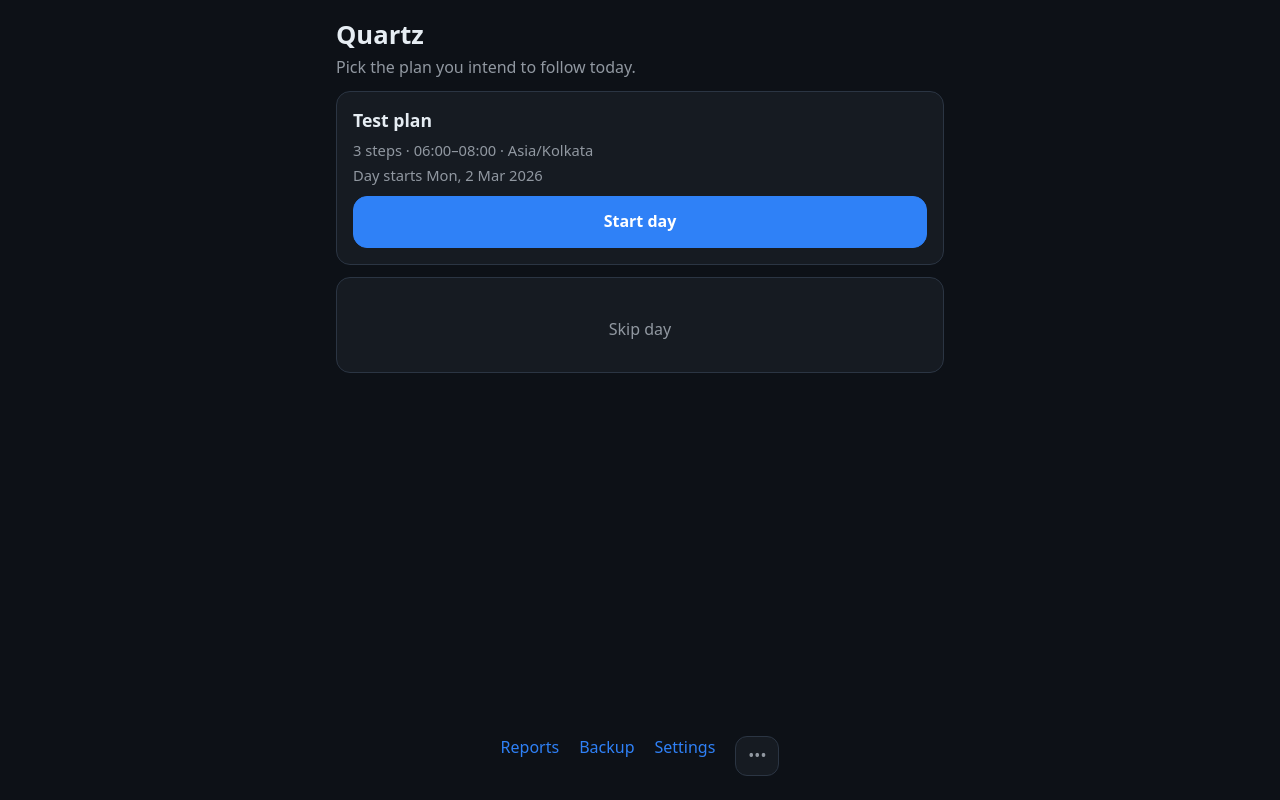
Test case: active run screen › fills a between-task gap from its subtle add control
Click the button "Start day" at (640, 222), box [353,196,927,248]
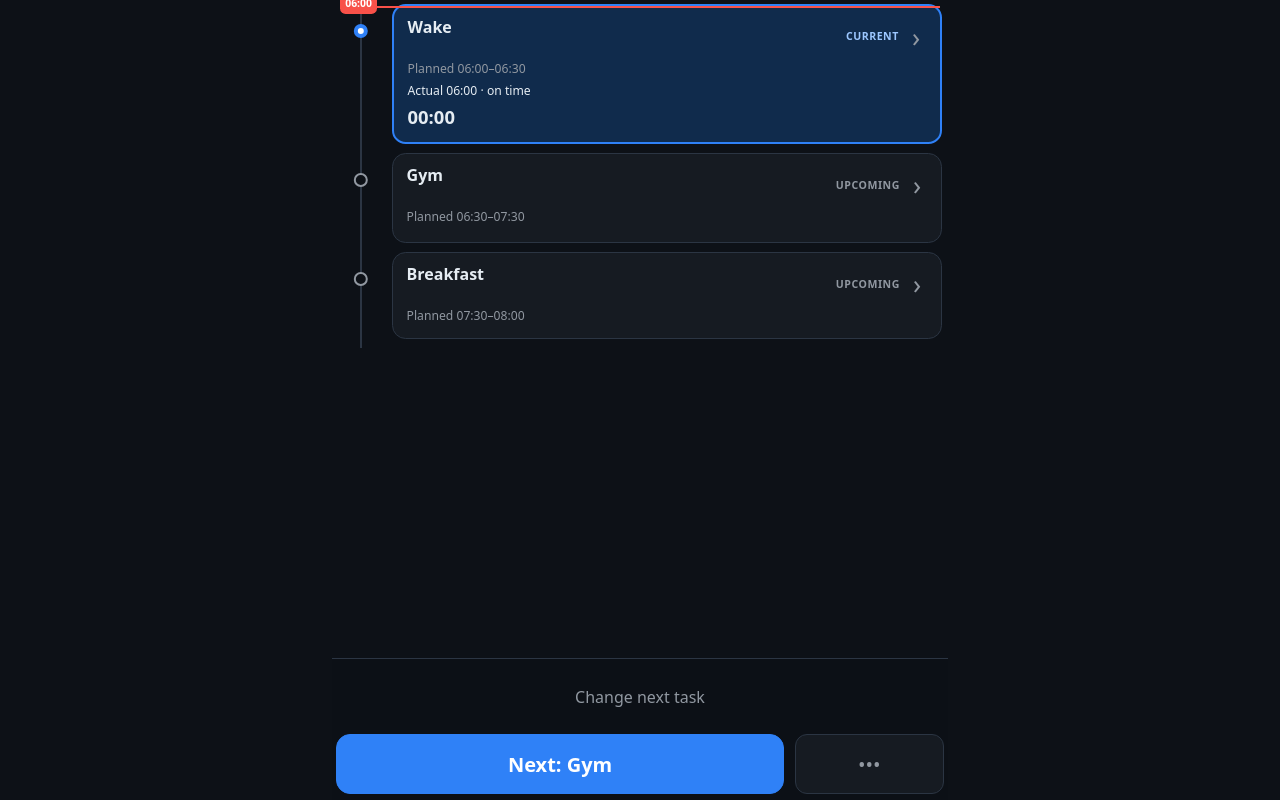
expect the heading "Wake" is shown: met, box [408,16,452,38]
Click the button named "More actions" at (869, 764), box [795,734,944,794]
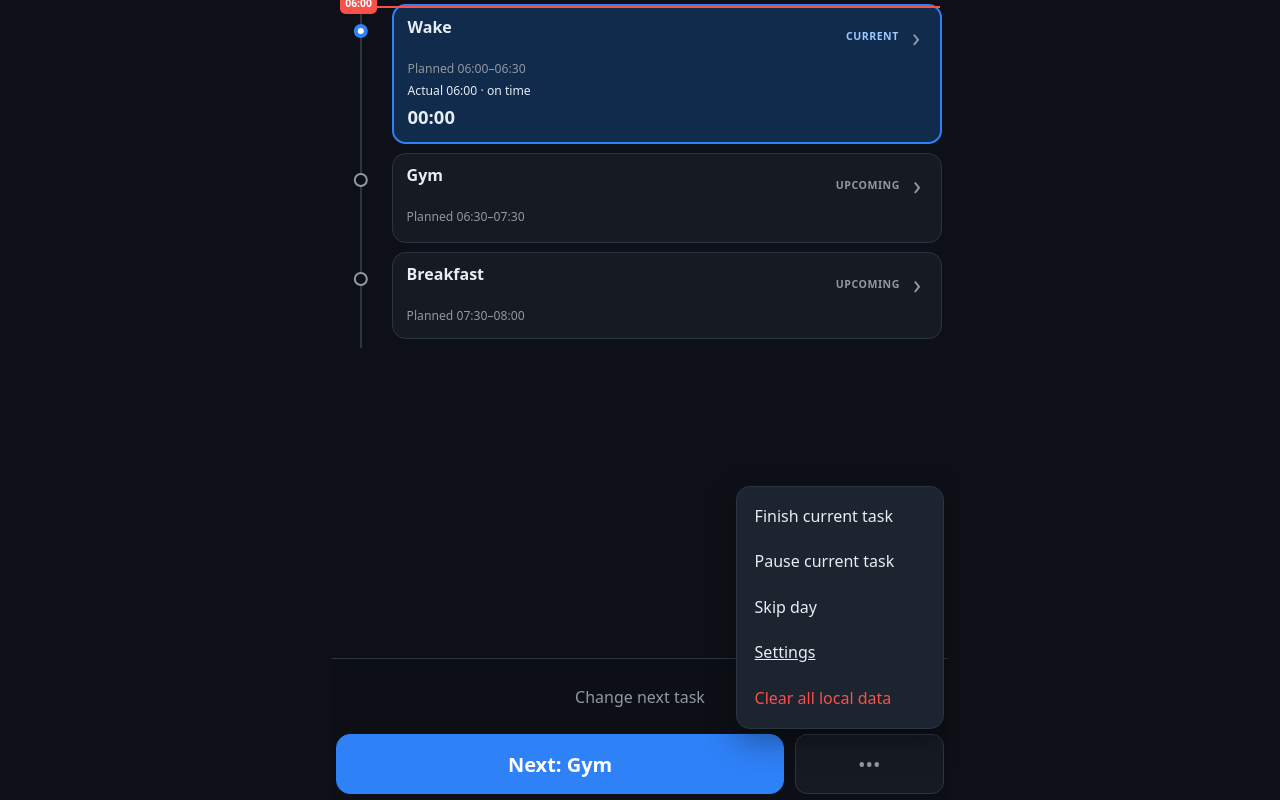
Click the button "Finish current task" at (840, 516), box [743,494,937,539]
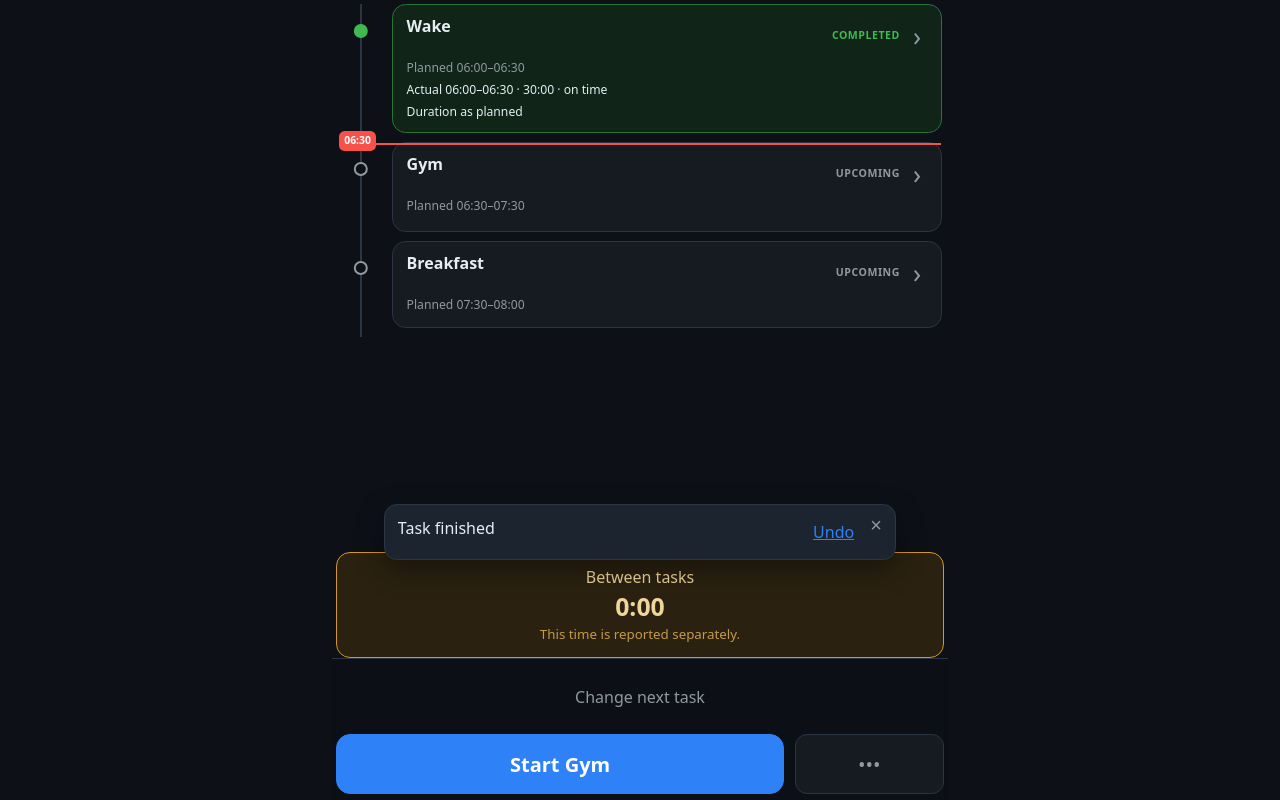
Click the button "Start Gym" at (560, 764), box [336,734,784,794]
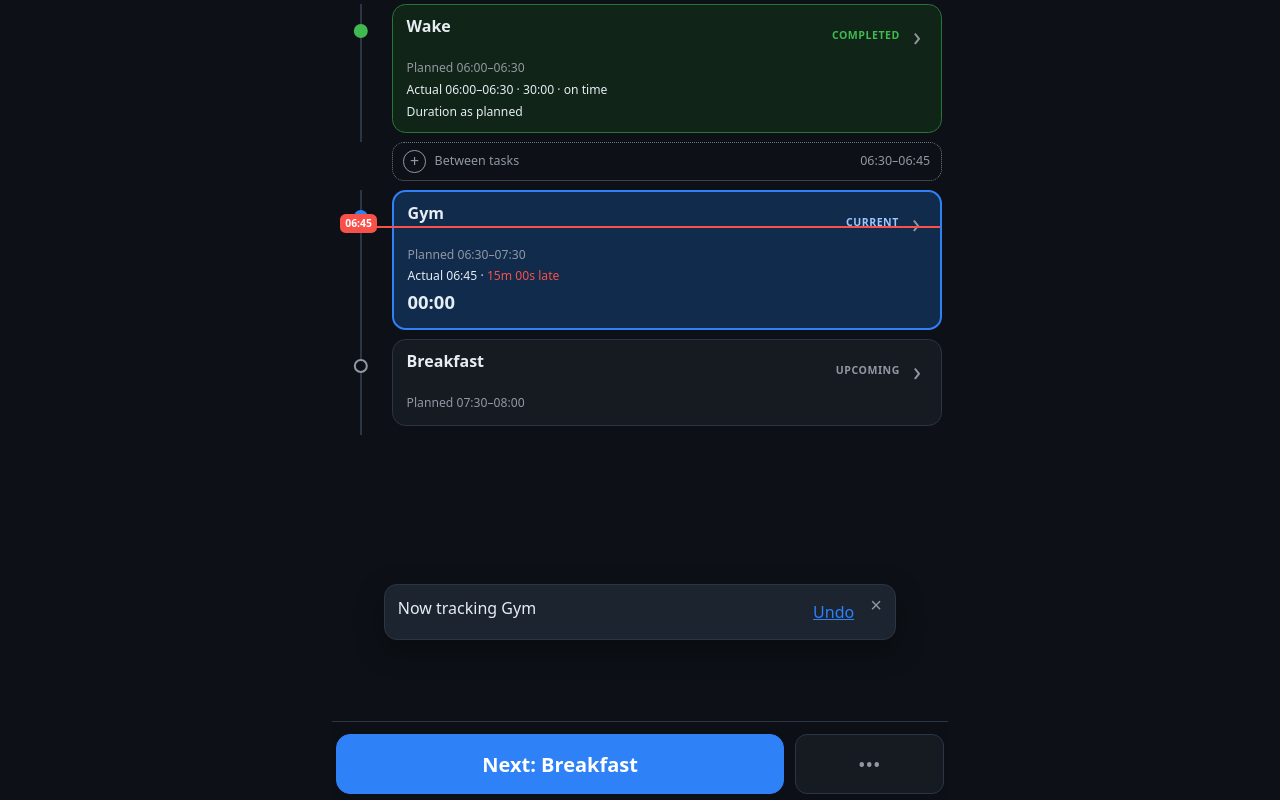
Click the button with aria-label "Add a task between" at (477, 161), box [392,142,942,181]
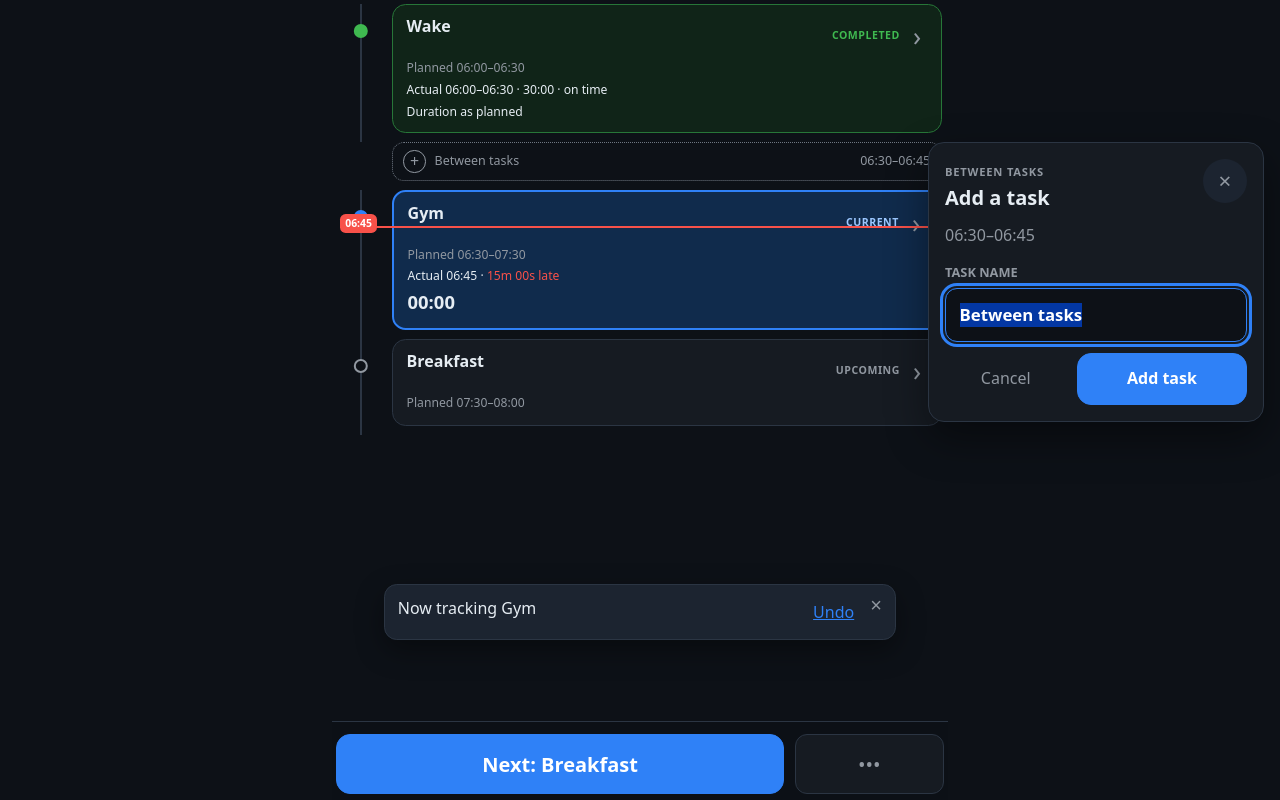
expect the dialog "Add a task" is shown: met, box [928,142,1264,422]
expect the field labelled "Task name" holds "Between tasks": met
Replace the text in the field labelled "Task name" with "Phone call" at (1096, 315), box [945,288,1247,342]
Click the button "Add task" at (1162, 379), box [1077,353,1247,405]
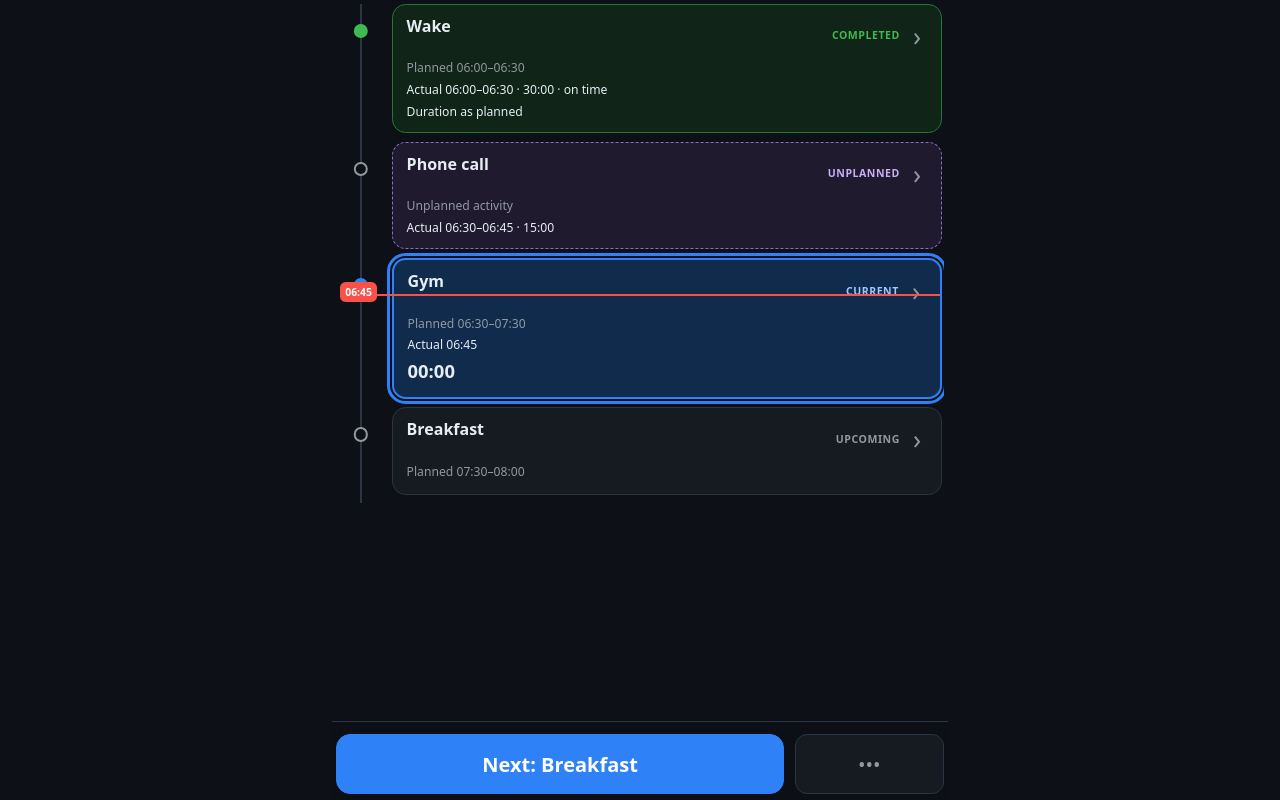
expect the heading "Phone call" is shown: met, box [407,153,489,175]
